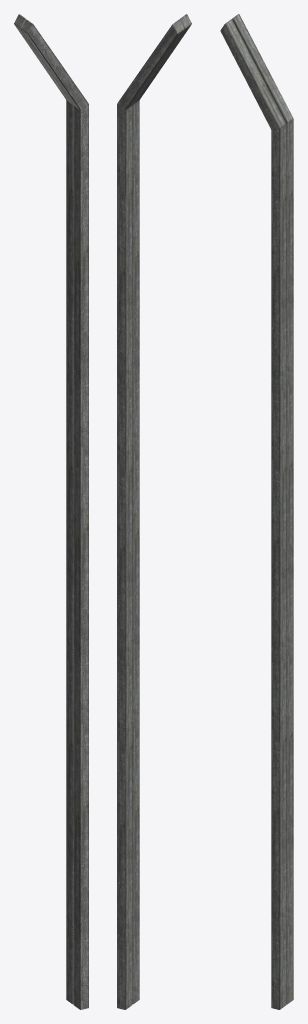
Rendered from FencePost_2storey01.fbx.
The picture shows the model from 3 angles, left to right: view 1: azimuth 30°, elevation 25°; view 2: azimuth 150°, elevation 25°; view 3: azimuth 330°, elevation 25°; orthographic projection. The views are drawn at different scales.
Parts seen in each view (by area): view 1: FencePost_2storey01; view 2: FencePost_2storey01; view 3: FencePost_2storey01.
Part boxes in pixels (x1,y1,x2,y2): FencePost_2storey01: (14,14,88,1009); FencePost_2storey01: (117,14,191,1009); FencePost_2storey01: (220,14,293,1009).
Size of the model in its own units: 59.07 by 24.44 by 921.
